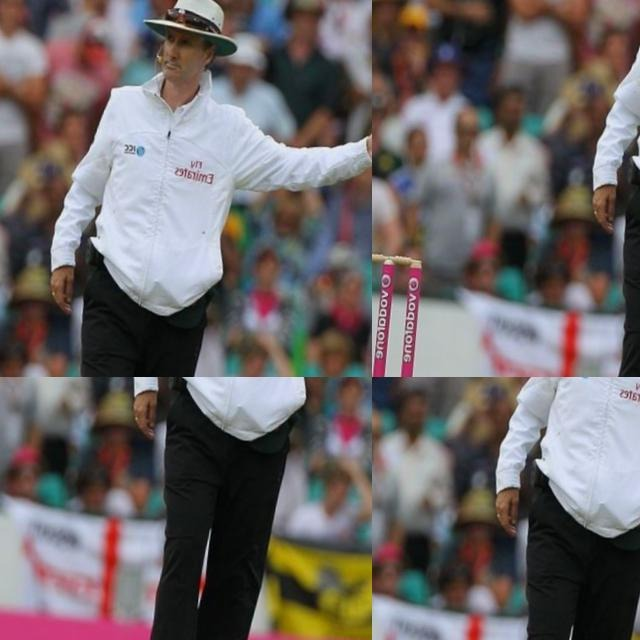No_Action: (281, 0, 372, 287)
No_Ball: (76, 377, 372, 640)
Out: (574, 0, 640, 143)
Six: (382, 377, 640, 640)
